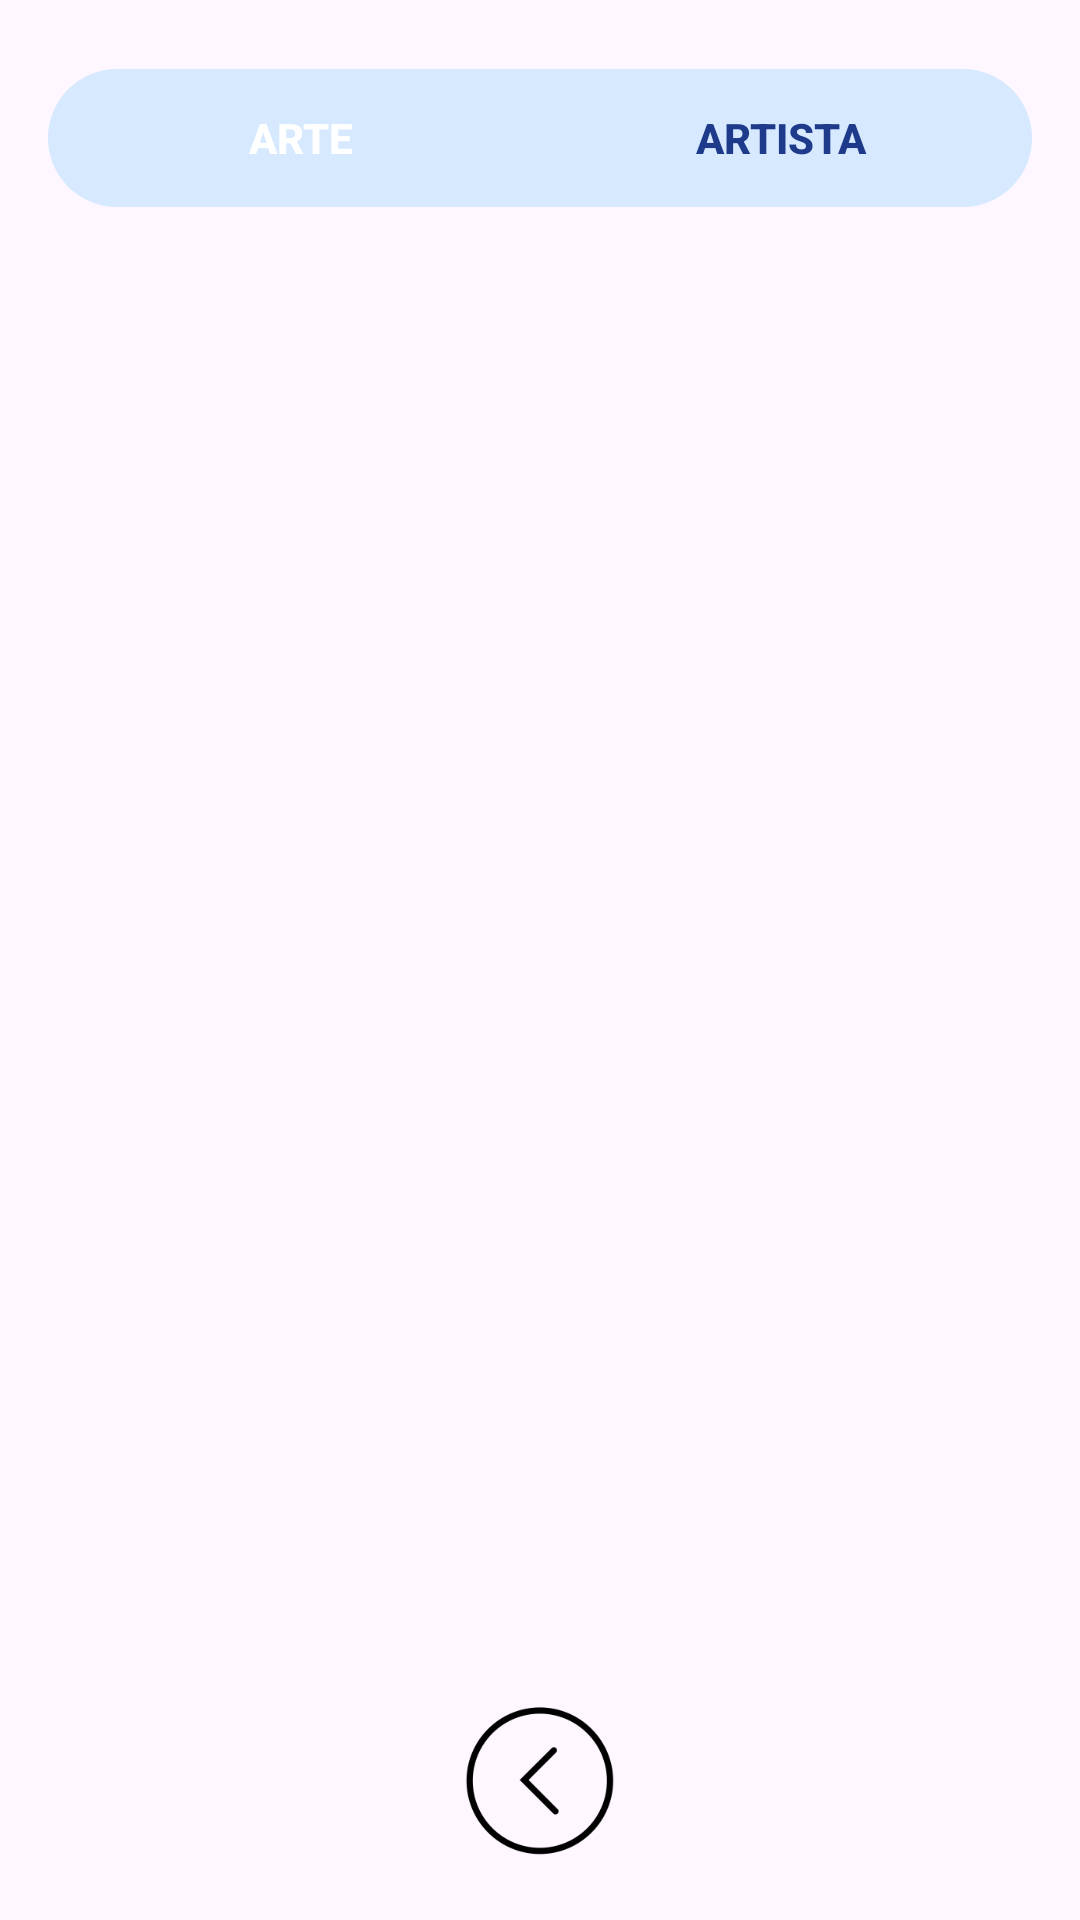

Icons on this 1080x1920 Android screen, each with the point to tap as point (x, y):
regresarimg: point (540, 1781)
